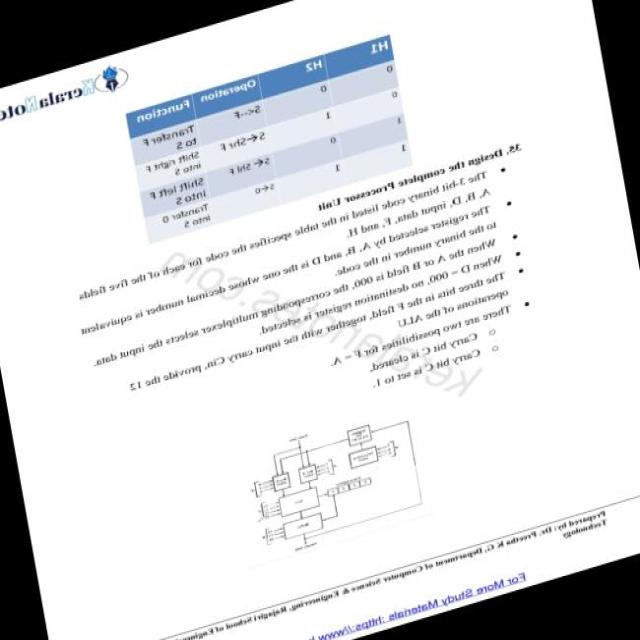Figure Detection - v3 Dataset Version2: (205, 390, 442, 587)
